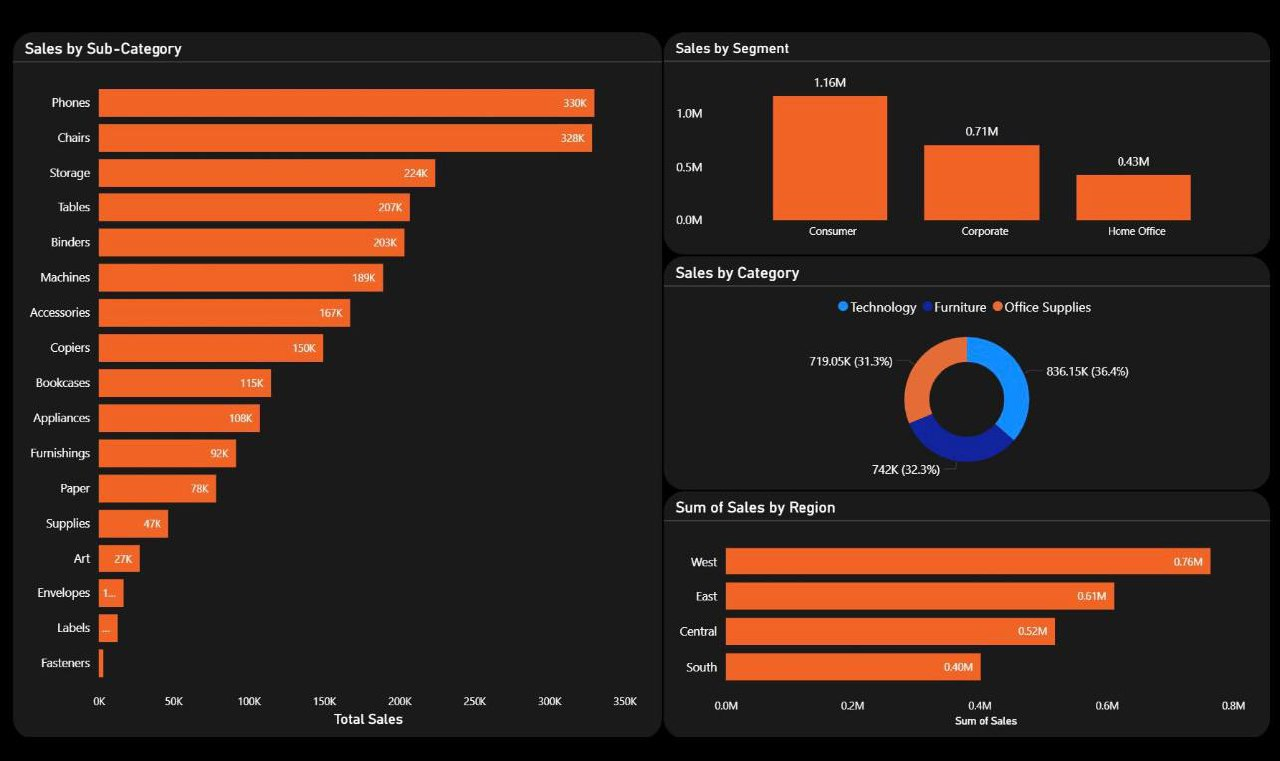

This screenshot's page, from the dashboard's own definition file:
{"tool":"powerbi","page":{"name":"market","canvas":[1280,720],"ordinal":1},"visuals":[{"type":"clusteredBarChart","title":" Sales by Sub-Category","fields":{"Y":["Sum(Fact sales.Sales)"],"Category":["Dim product.Sub-Category"]},"box":[0,0,661.6,719.8],"z":0},{"type":"clusteredColumnChart","title":"Sales by Segment","fields":{"Y":["Sum(Fact sales.Sales)"],"Category":["Dim customer.Segment"]},"box":[661.6,0,618.6,227.9],"z":1000},{"type":"donutChart","title":"Sales by Category","fields":{"Category":["Dim product.Category"],"Y":["Sum(Fact sales.Sales)"]},"box":[661.6,227.9,618.6,238.4],"z":2000},{"type":"clusteredBarChart","fields":{"Category":["Dim customer.Region"],"Y":["Sum(Fact sales.Sales)"]},"box":[661.6,466.3,618.6,253.5],"z":3000}]}

Visuals, with their boxes on the page's 1280x720 design canvas (x1, y1, x2, y2). These are canvas units, not pixel positions in the 1280x761 screenshot, which may show the page scaled, cropped or inside an application window:
" Sales by Sub-Category" clusteredBarChart: pyautogui.locateOnScreen(0, 0, 662, 720)
"Sales by Segment" clusteredColumnChart: pyautogui.locateOnScreen(662, 0, 1280, 228)
"Sales by Category" donutChart: pyautogui.locateOnScreen(662, 228, 1280, 466)
clusteredBarChart - Dim customer.Region x Sum(Fact sales.Sales): pyautogui.locateOnScreen(662, 466, 1280, 720)
